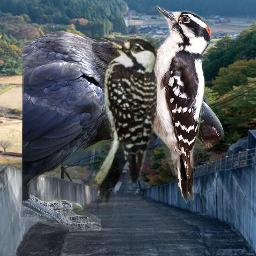Crow: (22, 30, 225, 231)
Woodpecker: (133, 5, 213, 206), (92, 35, 157, 209)
